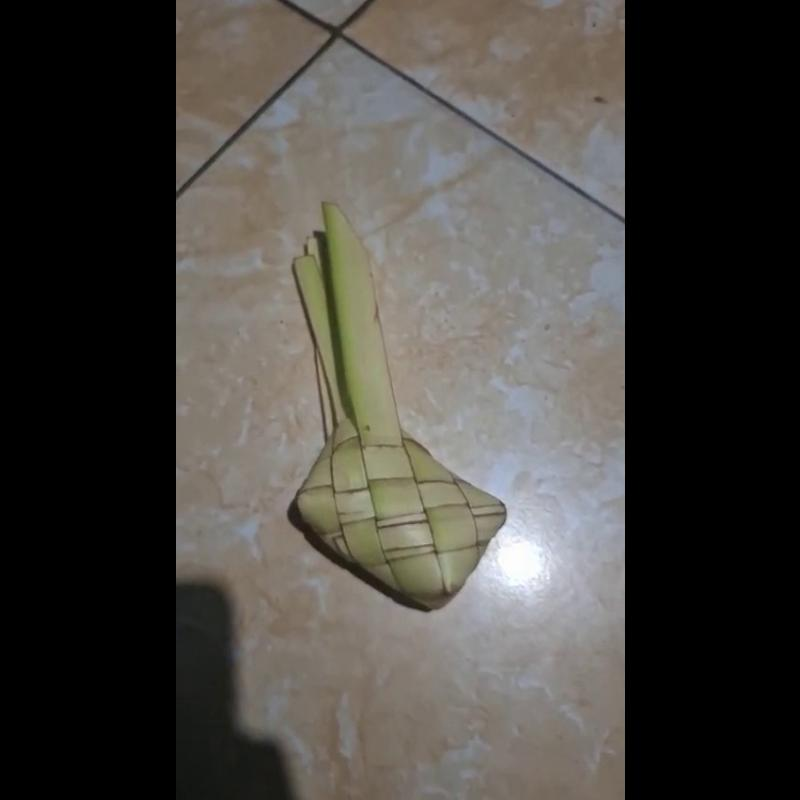Tipat Bantal: (280, 195, 509, 619)
